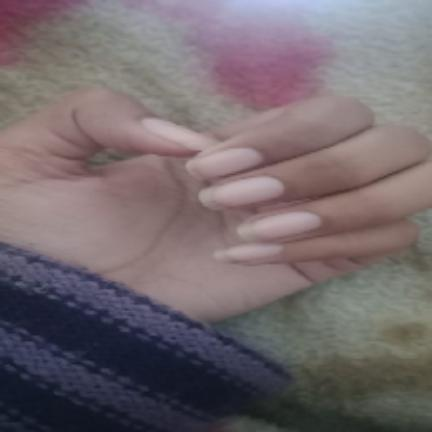Nail: (199, 177, 282, 211), (236, 214, 321, 244), (186, 146, 264, 178), (142, 118, 213, 151), (214, 244, 284, 262), (271, 178, 275, 181)
